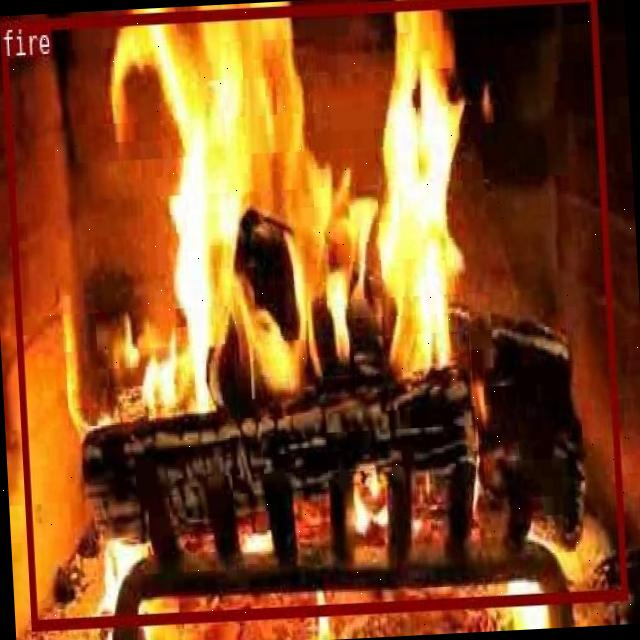fire: (0, 0, 626, 627)
